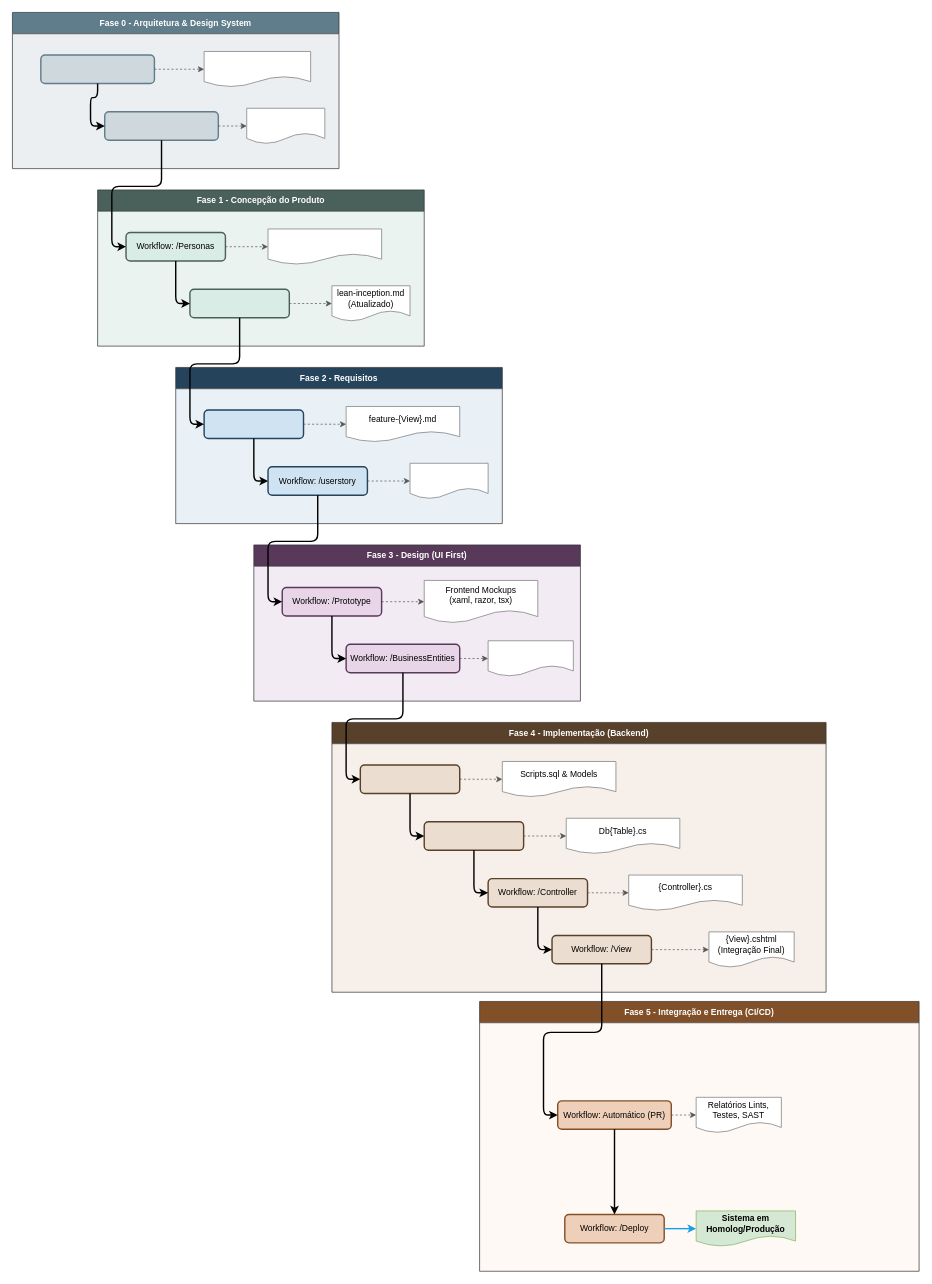
Some shapes in this 932 by 1284 pixel diagram are drawn without their labels. The centre of each missing label's shape, as x and y in pixels:
Architecture.md: the point at 257,69
data/{Entity}.md: the point at 530,658
designsystem.md: the point at 285,126
lean-inception.md: the point at 324,246
user-stories/*.md: the point at 448,481
Workflow: /Api: the point at 473,836
Workflow: /Architecture: the point at 97,69
Workflow: /Database: the point at 409,779
Workflow: /DesignSystem: the point at 161,126
Workflow: /Features: the point at 253,424
Workflow: /Jornadas: the point at 239,303
